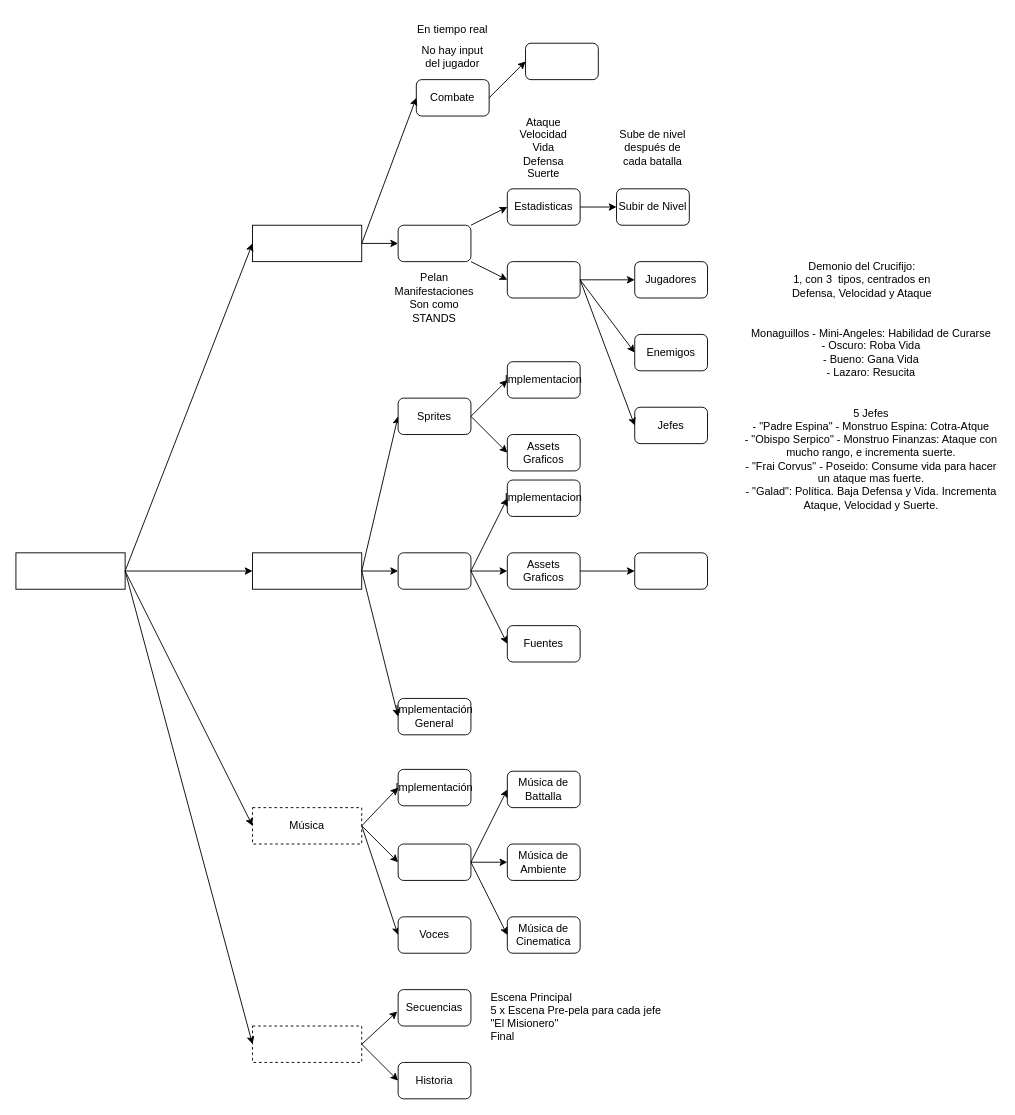
Some shapes in this 1015 by 1115 pixel diagram are drawn without their labels. Each missing label, with the centre of its shape:
"Assets" belongs at point (434, 861).
"Balance" belongs at point (561, 61).
"Cinemáticas" belongs at point (307, 1043).
"Gráficos" belongs at point (307, 570).
"Iconos" belongs at point (671, 570).
"Interfaz" belongs at point (434, 570).
"Juego" belongs at point (70, 570).
"Mecánicas" belongs at point (307, 243).
"Personaje" belongs at point (434, 243).
"Tipos" belongs at point (543, 279).
